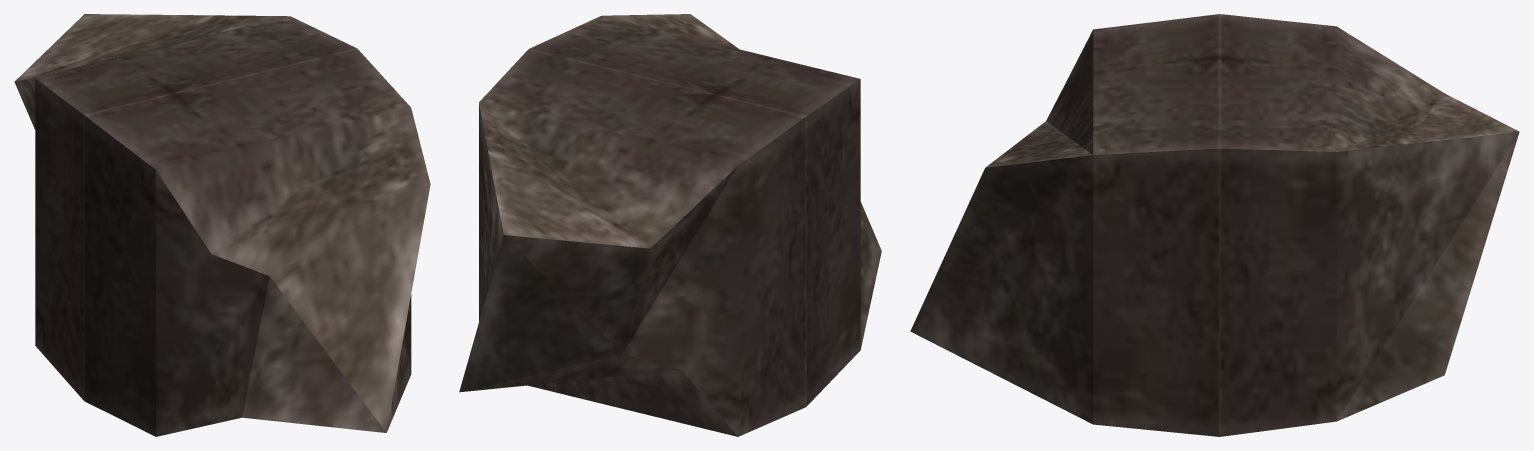
3 views of the same model, side by side, from view 1: azimuth 30°, elevation 25°; view 2: azimuth 150°, elevation 25°; view 3: azimuth 270°, elevation 25° (orthographic).
Visible parts, largest first — view 1: model_Object49; view 2: model_Object49; view 3: model_Object49.
Boxes of the visible parts, x1=… form: model_Object49: x1=14, y1=14, x2=430, y2=436; model_Object49: x1=459, y1=14, x2=881, y2=436; model_Object49: x1=910, y1=14, x2=1519, y2=436.
Size of the model in its own units: 1.04 by 1.04 by 2.
Materials: 1 (1 with a texture image).
